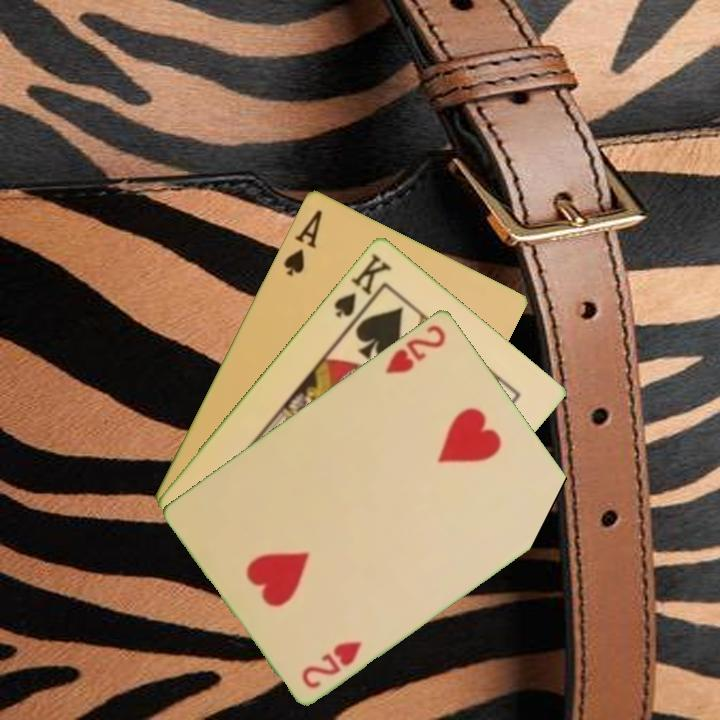2h: (381, 320, 449, 377), (298, 637, 365, 691)
As: (279, 206, 325, 279)
Ks: (330, 249, 395, 328)
